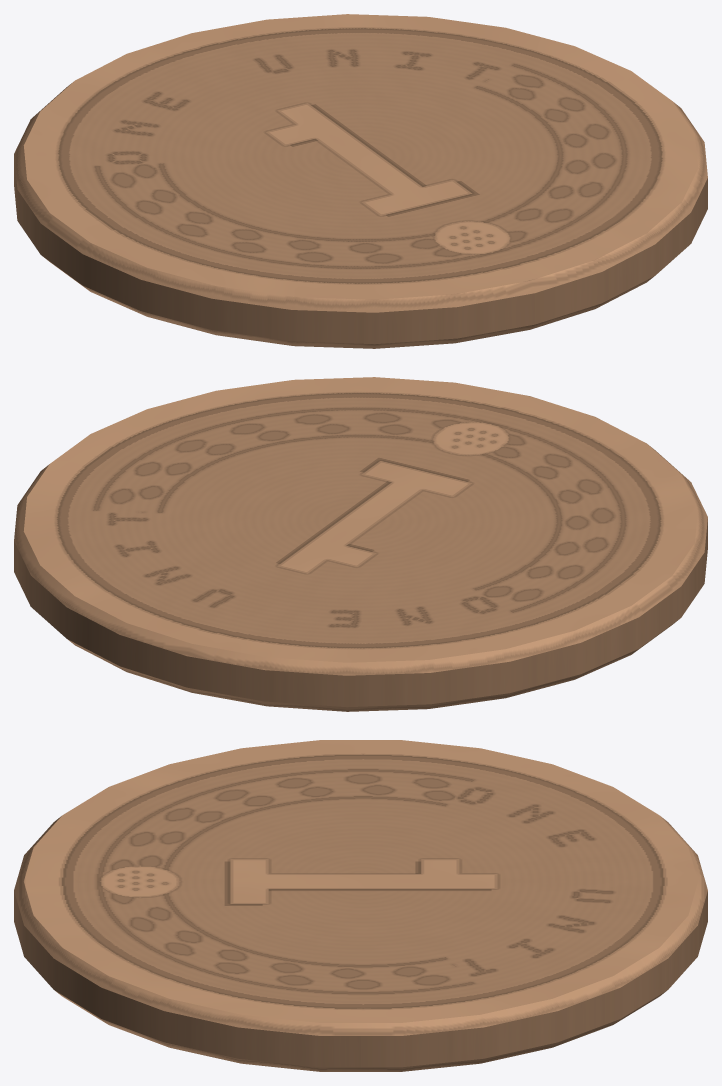
The model's file is cash_coin_01.glb.
3 views of the same model, one above another, from view 1: azimuth 30°, elevation 25°; view 2: azimuth 150°, elevation 25°; view 3: azimuth 270°, elevation 25° (orthographic).
Visible parts, largest first — view 1: Coin_Body; view 2: Coin_Body; view 3: Coin_Body.
Boxes of the visible parts, x1,y1,x2,y2 form: Coin_Body: (14, 14, 707, 348); Coin_Body: (14, 377, 707, 711); Coin_Body: (14, 740, 707, 1071).
Bounding box in the file's own units: 0.0179 × 0.0014 × 0.018.
Materials: 1 (1 with a texture image).
